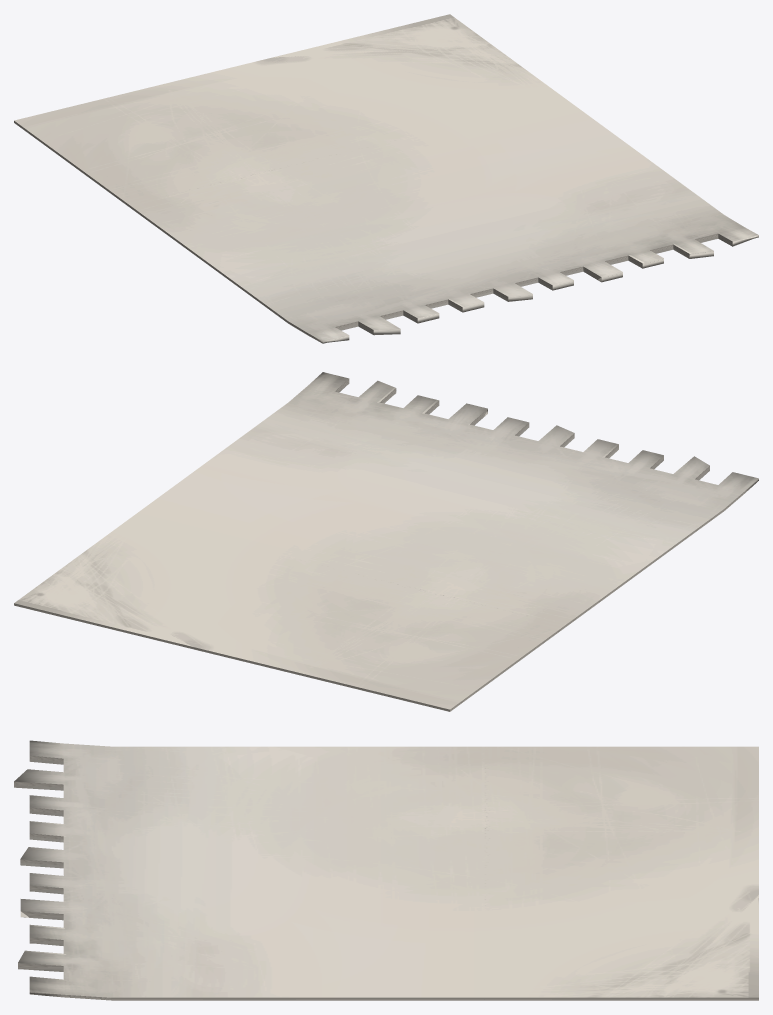
The model's file is Paper.fbx.
3 renders of one model, top to bottom at view 1: azimuth 30°, elevation 25°; view 2: azimuth 150°, elevation 25°; view 3: azimuth 270°, elevation 25°, orthographic. The views are drawn at different scales.
Parts seen in each view (by area): view 1: Torus.002; view 2: Torus.002; view 3: Torus.002.
Part boxes in pixels (left/top/right/bottom): Torus.002: left=14, top=14, right=758, bottom=343; Torus.002: left=14, top=372, right=758, bottom=711; Torus.002: left=14, top=740, right=758, bottom=1000.
Bounding box in the file's own units: 800 × 13.55 × 1002.
